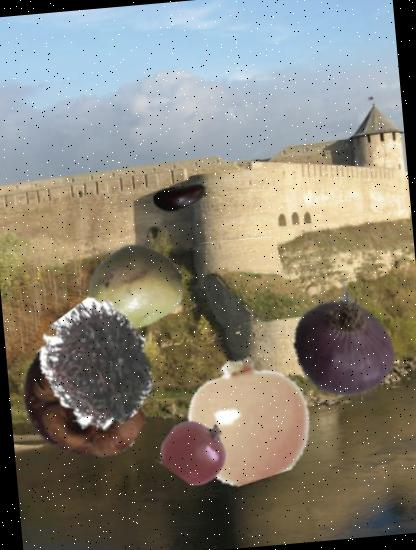Eggplant: (150, 166, 212, 229)
Mangostan: (13, 326, 158, 470)
Onion: (274, 268, 409, 404)
Physalis: (181, 350, 318, 486)
Pomelo: (83, 234, 188, 340)
Rambutan: (31, 301, 164, 434)
Redcurrant: (160, 414, 232, 486)
